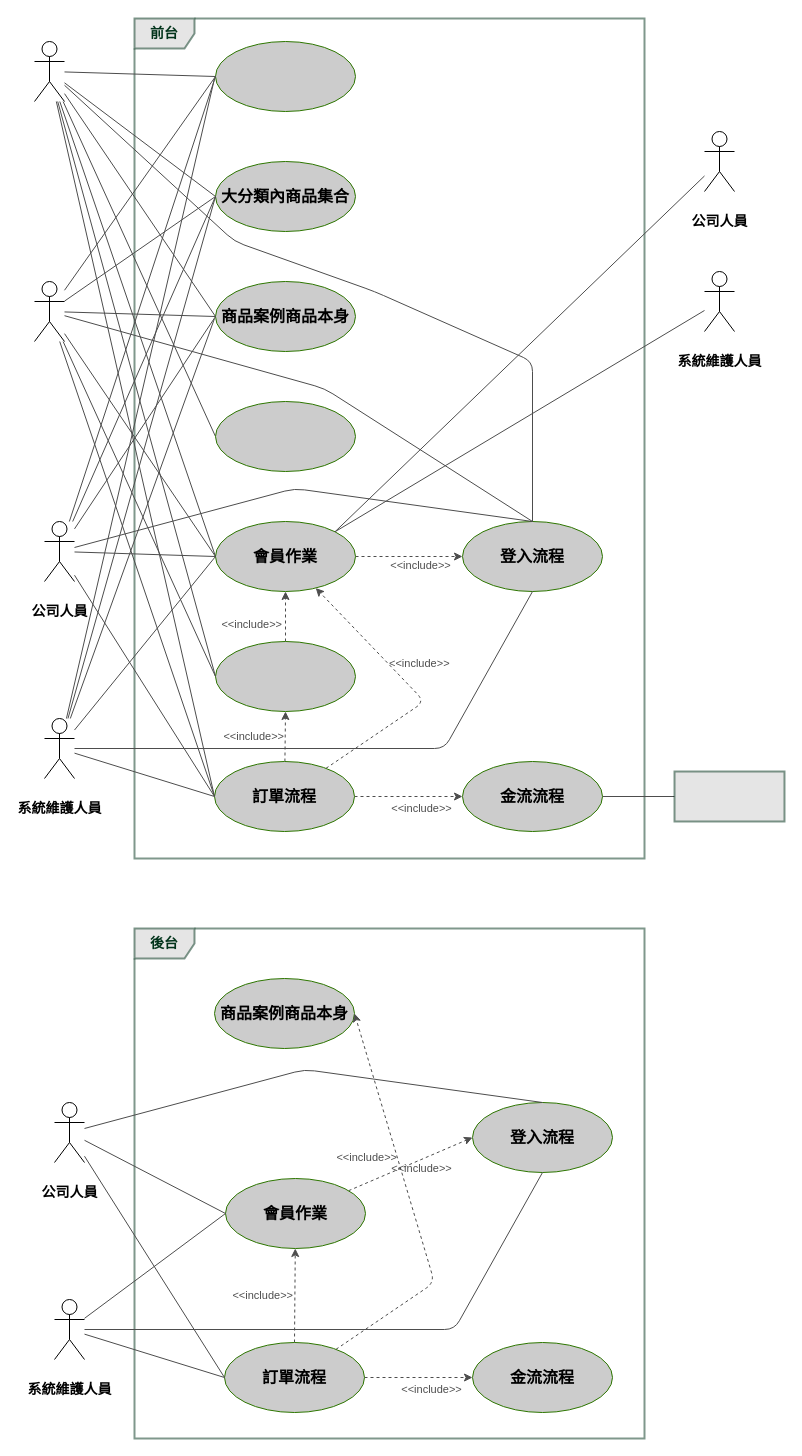
Image size: 802x1456. Some labels were removed from this diagram. The centre of each missing label's shape, as x and y in pixels:
"«actor» 白公主銀行" belongs at (729,796).
"商品案例(大分類)" belongs at (285,76).
"客戶" belongs at (49,311).
"瀏覽者" belongs at (49,71).
"註冊流程" belongs at (285,436).
"購物車商品流程" belongs at (285,676).
